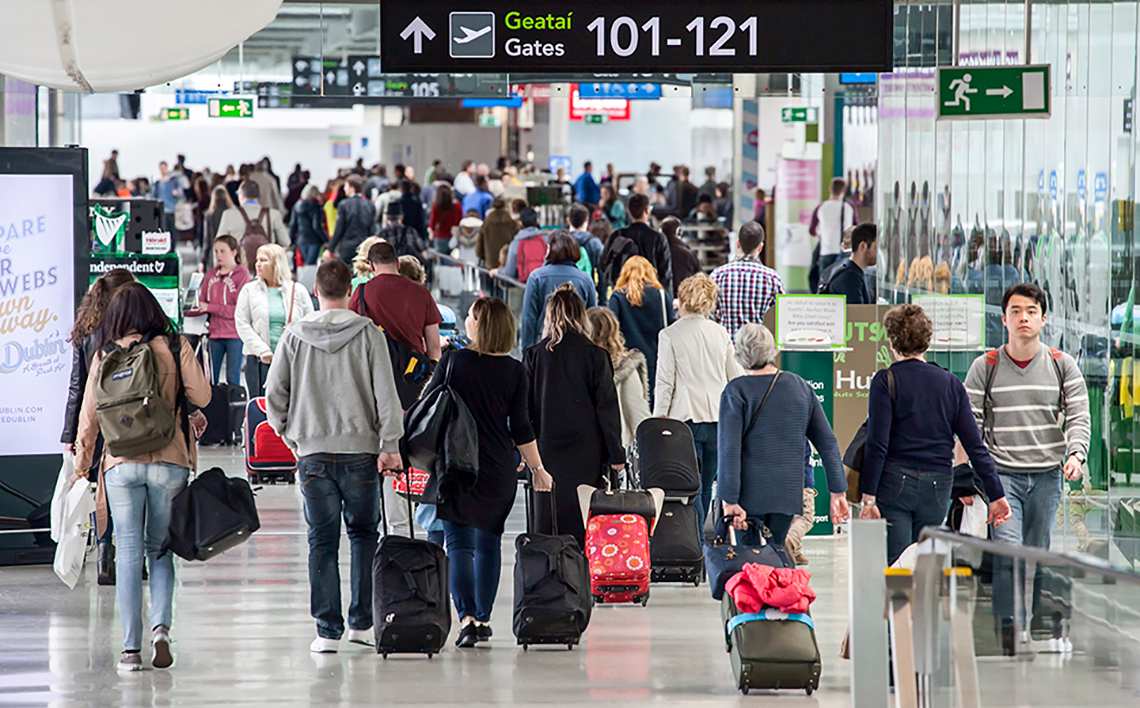backpack: (88, 335, 189, 461)
bag: (401, 355, 485, 484), (161, 463, 269, 560), (700, 515, 804, 587), (587, 479, 658, 519)
luggage: (365, 463, 457, 659), (711, 557, 828, 700), (511, 480, 597, 656), (621, 414, 704, 503), (240, 392, 305, 486)
people: (259, 259, 414, 663), (842, 304, 1003, 659), (80, 290, 219, 689), (961, 282, 1093, 662), (407, 301, 538, 658), (704, 325, 853, 620), (514, 283, 639, 573), (643, 278, 762, 526), (231, 243, 320, 432)
